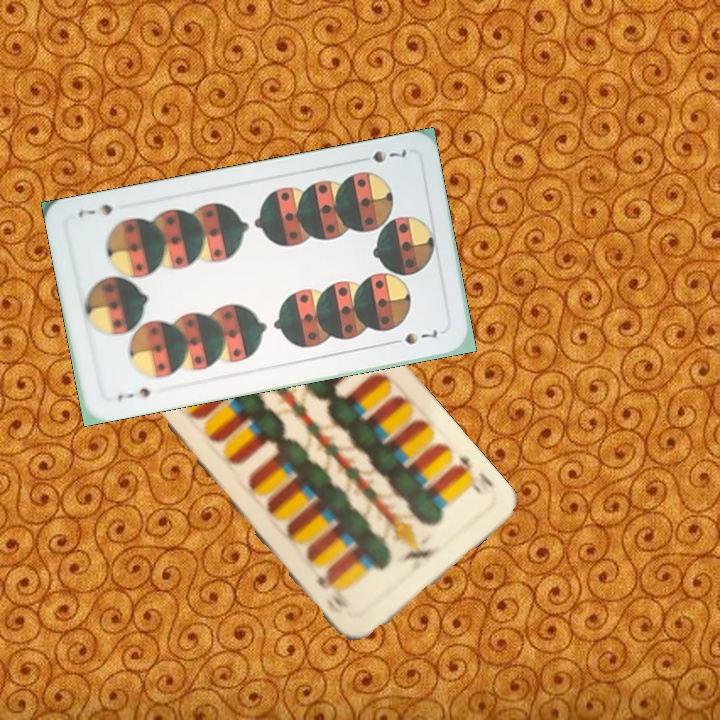E10: (448, 450, 496, 499)
S7: (368, 145, 409, 166), (113, 383, 153, 403)
